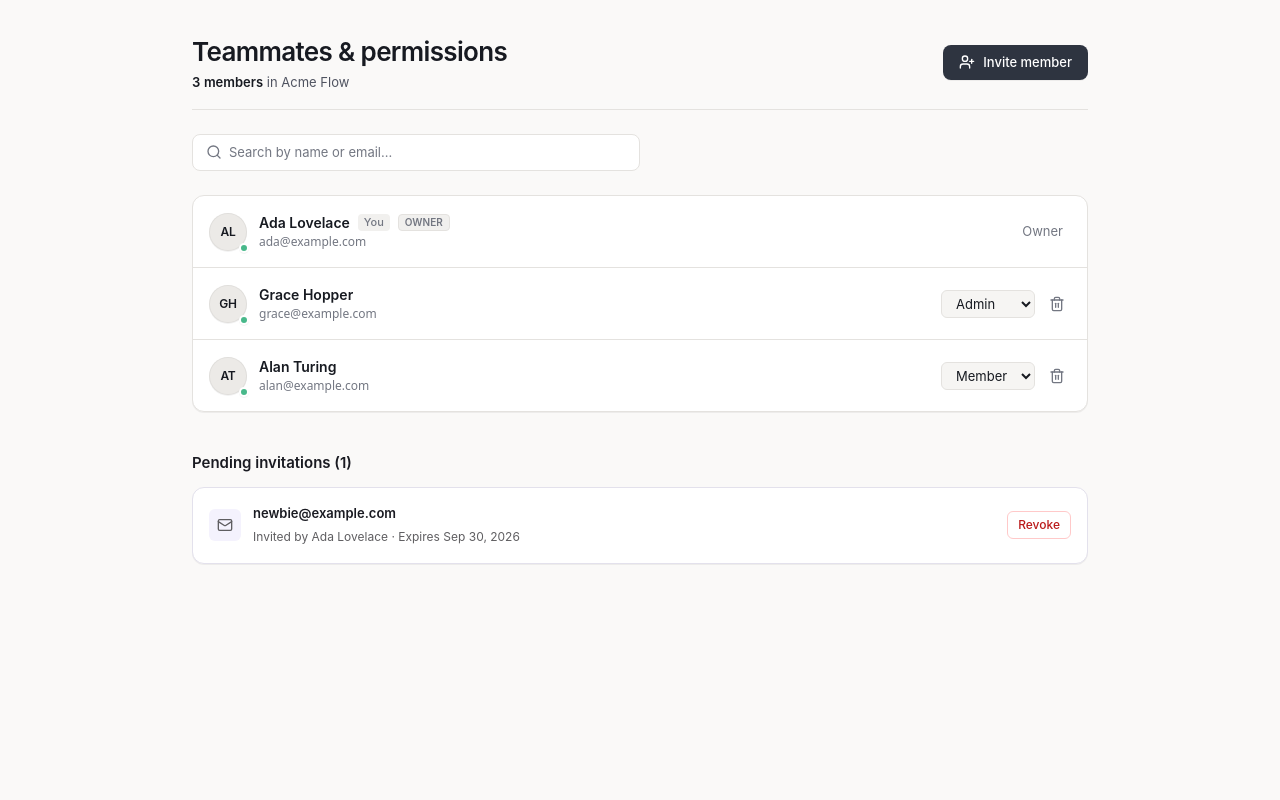
SettingsMembersView › removes a member via DELETE and updates the list
What coordinates should you click on to do the following:
click the button named "Remove Alan Turing"
I would click on:
 (1057, 376)
Its box is x1=1043 y1=362 x2=1071 y2=390.
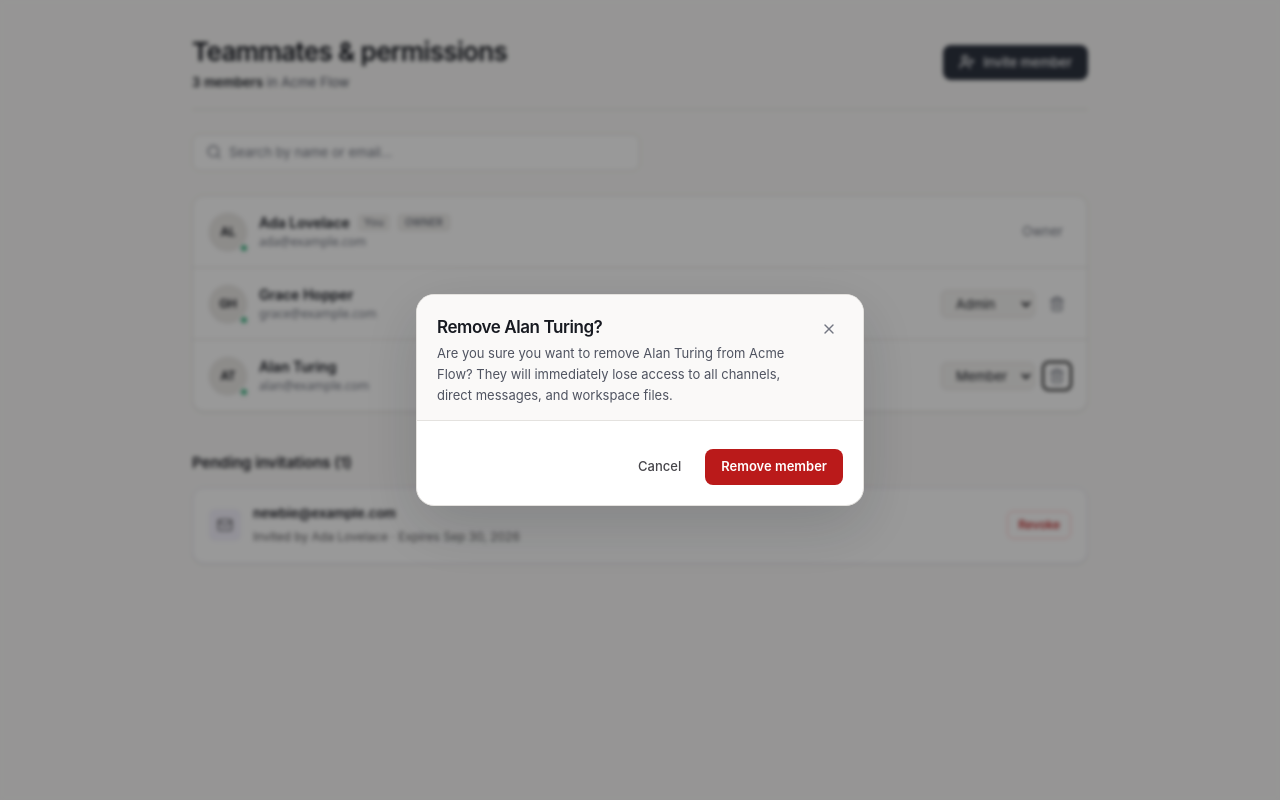
Expected: the heading "Remove Alan Turing?" is shown, x1=437 y1=317 x2=602 y2=337
What coordinates should you click on to do the following:
click the button "Remove member"
I would click on:
 (774, 467)
Its box is x1=705 y1=449 x2=843 y2=485.
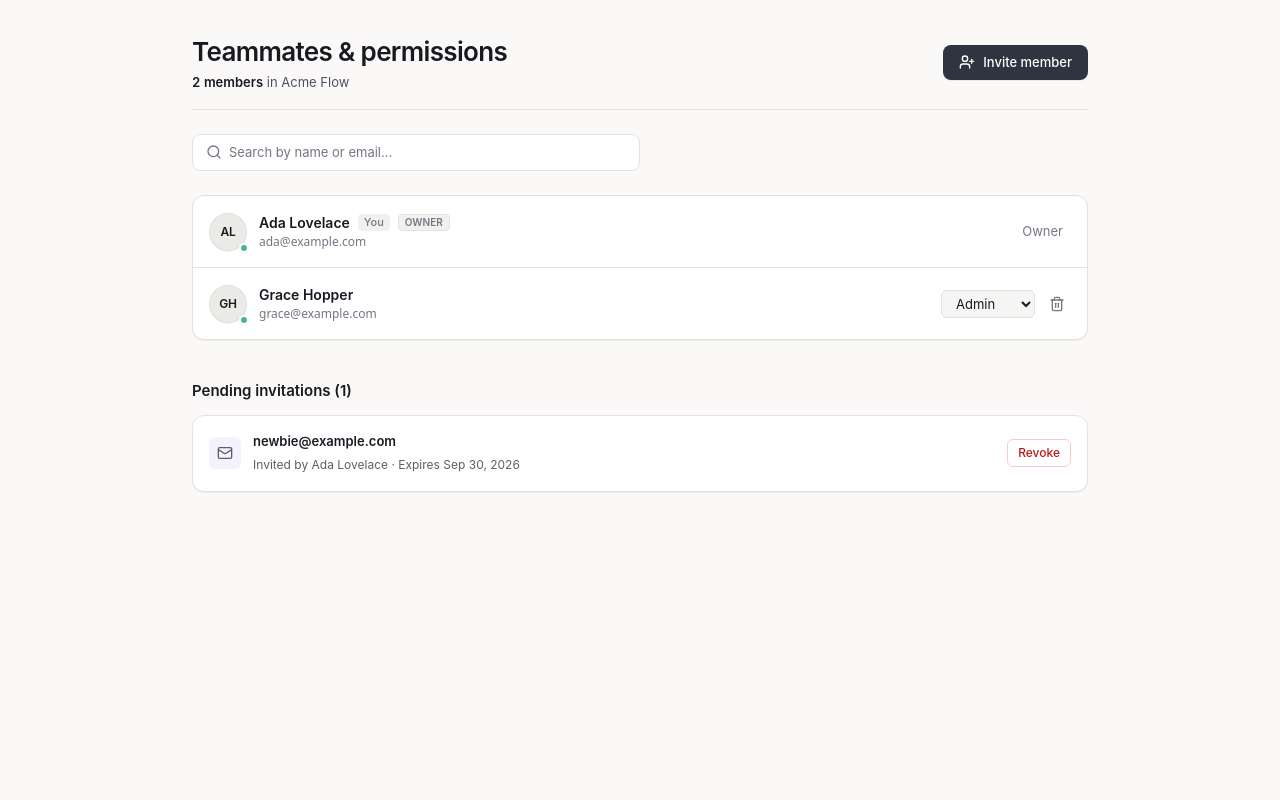
Expected: the text "Alan Turing" is gone
